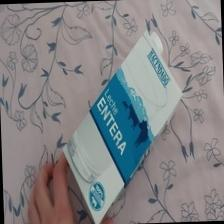Kertas: (63, 31, 180, 223)
